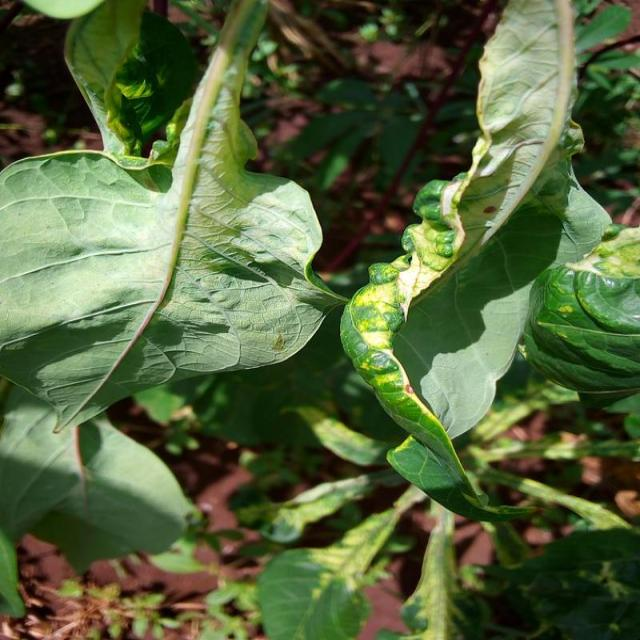cassava leaf: (0, 0, 344, 434), (338, 0, 622, 521), (521, 222, 638, 405)
